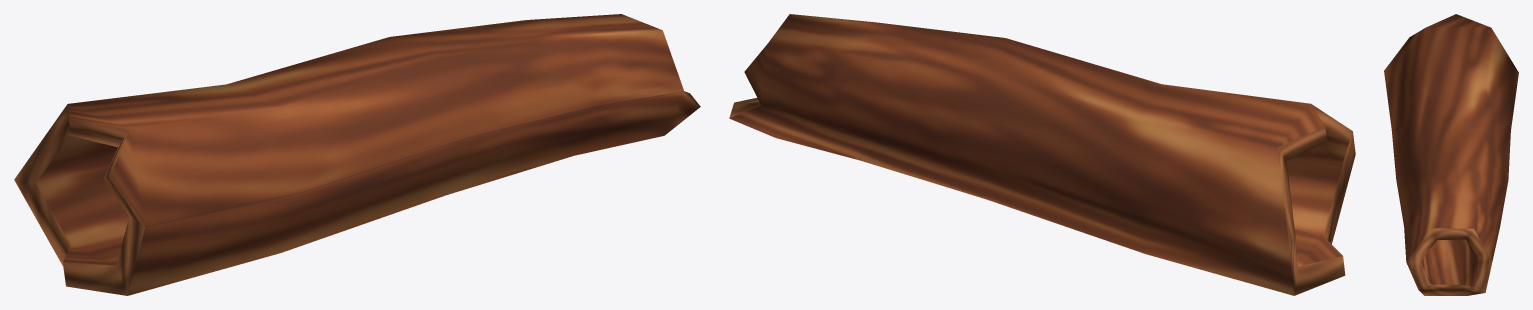
File: log-003-53.glb
3 renders of one model, left to right at view 1: azimuth 30°, elevation 25°; view 2: azimuth 150°, elevation 25°; view 3: azimuth 270°, elevation 25°, orthographic. The views are drawn at different scales.
Visible parts, largest first — view 1: log.003_53; view 2: log.003_53; view 3: log.003_53.
Boxes of the visible parts, bbox=[...] form: log.003_53: bbox=[14, 14, 700, 295]; log.003_53: bbox=[729, 14, 1355, 295]; log.003_53: bbox=[1384, 14, 1518, 295].
Size of the model in its own units: 14.04 by 3.59 by 3.94.
1 material, 1 textured.
